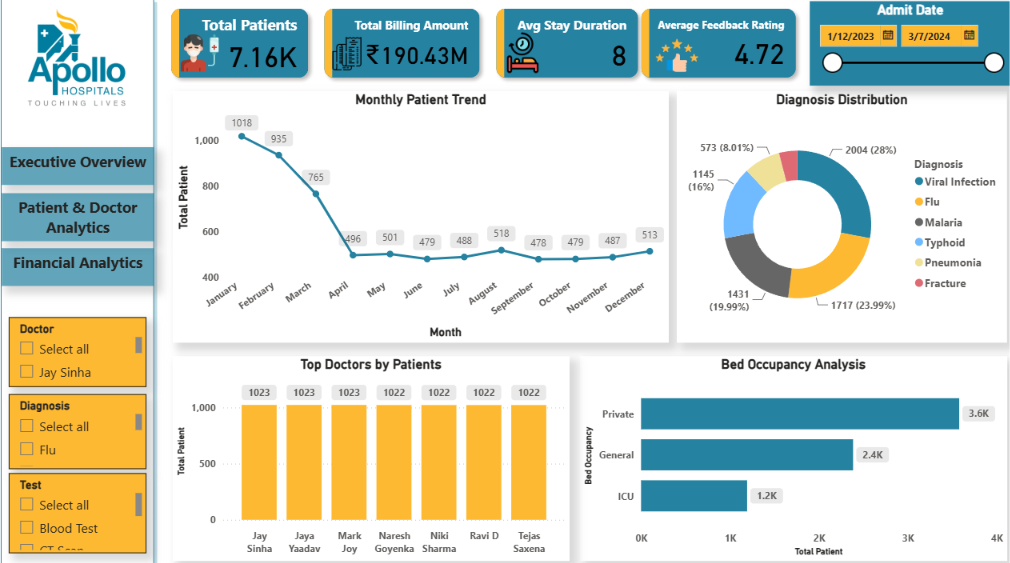

Layout of this report page (visuals, bound fields, positions):
{"tool":"powerbi","page":{"name":"Executive Overview","canvas":[1280,720],"ordinal":0},"visuals":[{"type":"shape","box":[0,0,201.7,720],"z":0},{"type":"image","box":[5,5,190,145],"z":1000},{"type":"cardVisual","fields":{"Data":["CountNonNull(Sheet1.Patient_ID)"]},"box":[201.4,0,205.7,120],"z":2000},{"type":"cardVisual","fields":{"Data":["Sum(Sheet1.Billing Amount)"]},"box":[392.9,0,228.6,120],"z":3000},{"type":"cardVisual","fields":{"Data":["Sheet1.Avg Stay Duration"]},"box":[607.1,0,211.4,120],"z":4000},{"type":"cardVisual","fields":{"Data":["Avg(Sheet1.Feedback)"]},"box":[788.6,0,227.1,120],"z":5000},{"type":"lineChart","title":"Monthly Patient Trend","fields":{"Category":["Sheet1.Admit_Date.Variation.Date Hierarchy.Month"],"Y":["CountNonNull(Sheet1.Patient_ID)"]},"box":[220,120,620,314.3],"z":6000},{"type":"donutChart","title":"Diagnosis Distribution","fields":{"Category":["Sheet1.Diagnosis"],"Y":["CountNonNull(Sheet1.Patient_ID)"]},"box":[850,120,412.9,314.3],"z":7000},{"type":"clusteredBarChart","title":"Bed Occupancy Analysis","fields":{"Category":["Sheet1.Bed_Occupancy"],"Y":["CountNonNull(Sheet1.Patient_ID)"]},"box":[728.6,451.4,534.3,255.7],"z":8000},{"type":"columnChart","title":"Top Doctors by Patients","fields":{"Category":["Sheet1.Doctor"],"Y":["CountNonNull(Sheet1.Patient_ID)"]},"box":[220,451.4,495.7,255.7],"z":9000},{"type":"image","box":[224.3,34.3,60,77.1],"z":10000},{"type":"image","box":[411.4,47.1,52.9,51.4],"z":11000},{"type":"image","box":[625.7,40,62.9,64.3],"z":12000},{"type":"image","box":[815.7,37.1,68.6,74.3],"z":13000},{"type":"slicer","title":"Admit Date","fields":{"Values":["Sheet1.Admit_Date"]},"box":[1015.7,7.1,251.4,105.7],"z":14000},{"type":"textbox","box":[6.4,190,190,47.1],"z":15000},{"type":"textbox","box":[6.4,247.1,190,60],"z":16000},{"type":"textbox","box":[6.4,315.7,190,47.1],"z":17000},{"type":"slicer","fields":{"Values":["Sheet1.Doctor"]},"box":[15.5,402.7,171.8,87.3],"z":18000},{"type":"slicer","fields":{"Values":["Sheet1.Diagnosis"]},"box":[15.5,498.2,171.8,93.6],"z":19000},{"type":"slicer","fields":{"Values":["Sheet1.Test"]},"box":[15.5,597.3,171.8,100],"z":20000},{"type":"actionButton","box":[6.4,190,190,47.1],"z":21000},{"type":"actionButton","box":[6.4,247.1,190,60],"z":22000},{"type":"actionButton","box":[6.4,317.1,190,47.1],"z":23000}]}

Visuals, with their boxes in screenshot pixels (x1, y1, x2, y2), scaled from the page's 1280x720 canvas onto the 1010x563 screenshot:
shape: x1=0 y1=0 x2=159 y2=562
image: x1=4 y1=4 x2=154 y2=117
cardVisual - CountNonNull(Sheet1.Patient_ID): x1=159 y1=0 x2=321 y2=94
cardVisual - Sum(Sheet1.Billing Amount): x1=310 y1=0 x2=490 y2=94
cardVisual - Sheet1.Avg Stay Duration: x1=479 y1=0 x2=646 y2=94
cardVisual - Avg(Sheet1.Feedback): x1=622 y1=0 x2=801 y2=94
"Monthly Patient Trend" lineChart: x1=174 y1=94 x2=663 y2=340
"Diagnosis Distribution" donutChart: x1=671 y1=94 x2=997 y2=340
"Bed Occupancy Analysis" clusteredBarChart: x1=575 y1=353 x2=997 y2=553
"Top Doctors by Patients" columnChart: x1=174 y1=353 x2=565 y2=553
image: x1=177 y1=27 x2=224 y2=87
image: x1=325 y1=37 x2=366 y2=77
image: x1=494 y1=31 x2=543 y2=82
image: x1=644 y1=29 x2=698 y2=87
"Admit Date" slicer: x1=801 y1=6 x2=1000 y2=88
textbox: x1=5 y1=149 x2=155 y2=185
textbox: x1=5 y1=193 x2=155 y2=240
textbox: x1=5 y1=247 x2=155 y2=284
slicer - Sheet1.Doctor: x1=12 y1=315 x2=148 y2=383
slicer - Sheet1.Diagnosis: x1=12 y1=390 x2=148 y2=463
slicer - Sheet1.Test: x1=12 y1=467 x2=148 y2=545
actionButton: x1=5 y1=149 x2=155 y2=185
actionButton: x1=5 y1=193 x2=155 y2=240
actionButton: x1=5 y1=248 x2=155 y2=285
